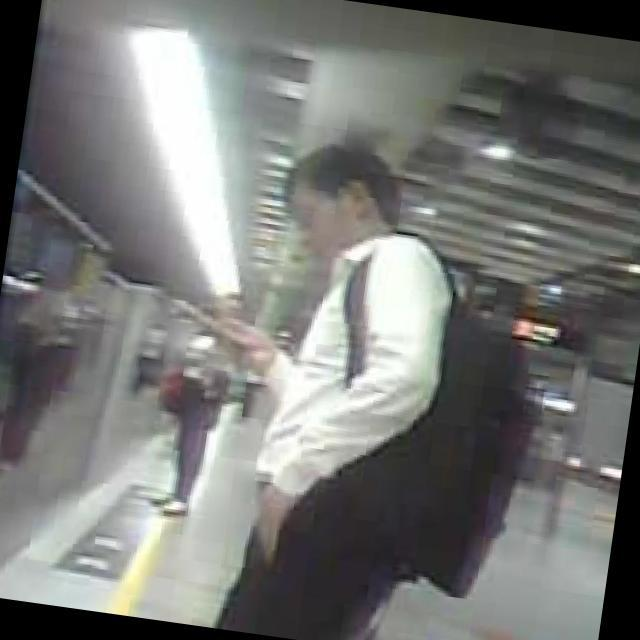person: (189, 130, 475, 640), (150, 284, 246, 524)
